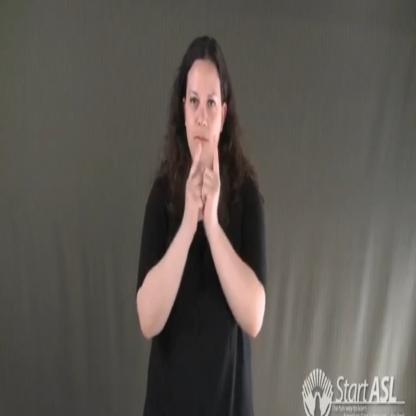NiceToMeetYou: (186, 126, 228, 232)
